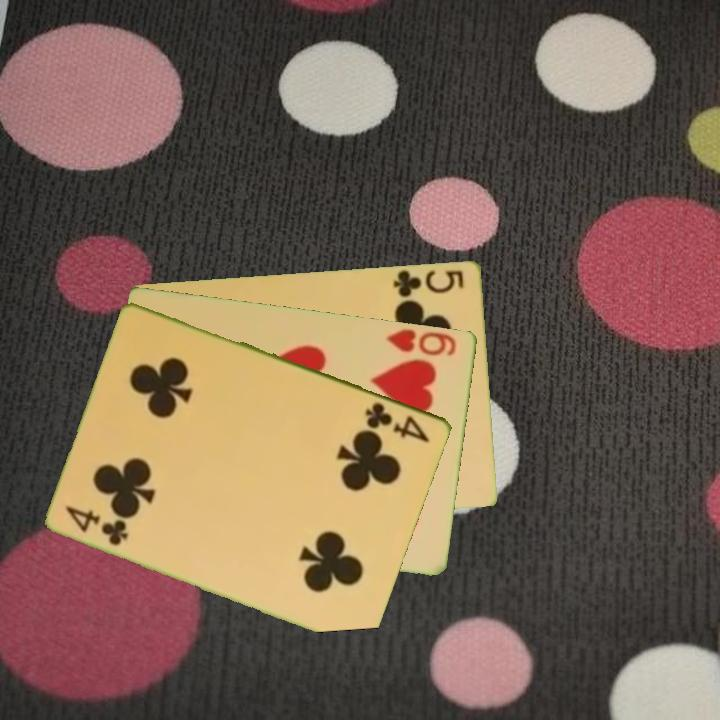4c: (362, 398, 433, 445), (62, 502, 132, 548)
5c: (390, 266, 467, 300)
6h: (383, 325, 460, 359)
